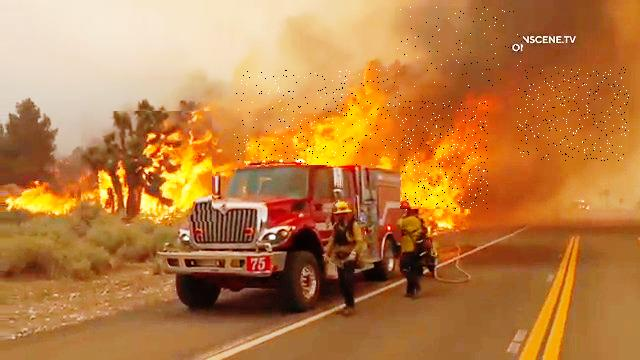fire: (235, 69, 402, 165), (82, 112, 215, 223), (400, 102, 488, 212)
smoke: (396, 8, 526, 89), (517, 67, 629, 161)
